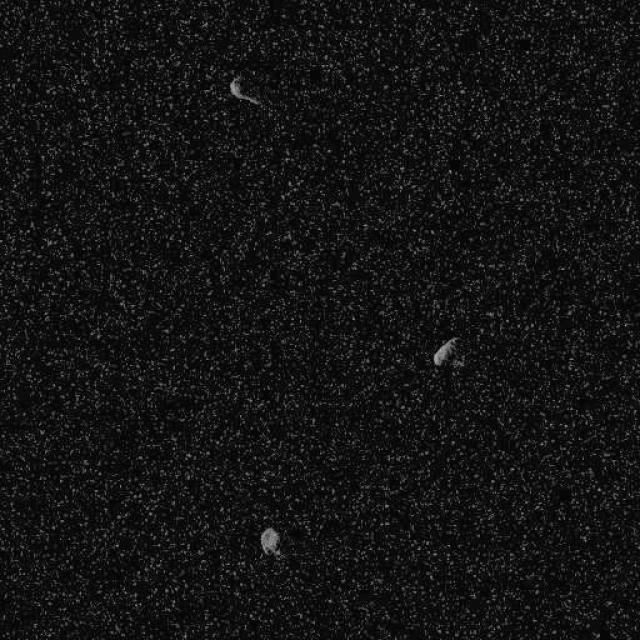D2: (228, 75, 262, 107), (431, 335, 460, 367), (259, 526, 281, 556)
